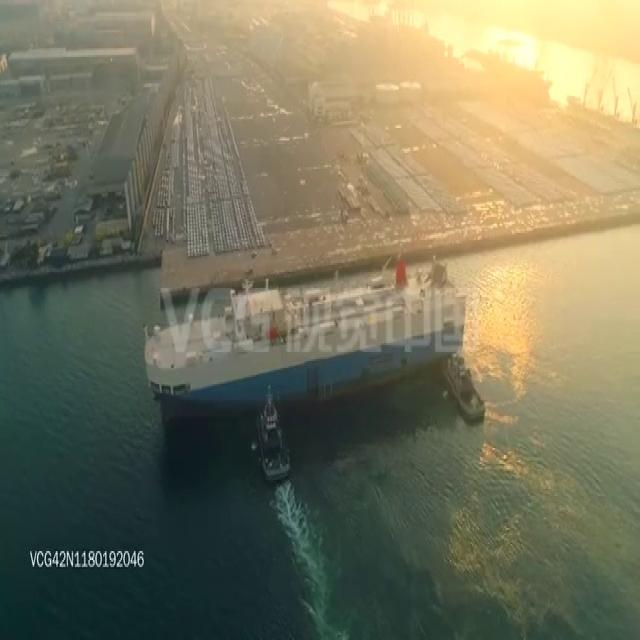cargoship: (135, 265, 464, 413)
houseboat: (441, 352, 485, 421), (256, 395, 290, 481)
